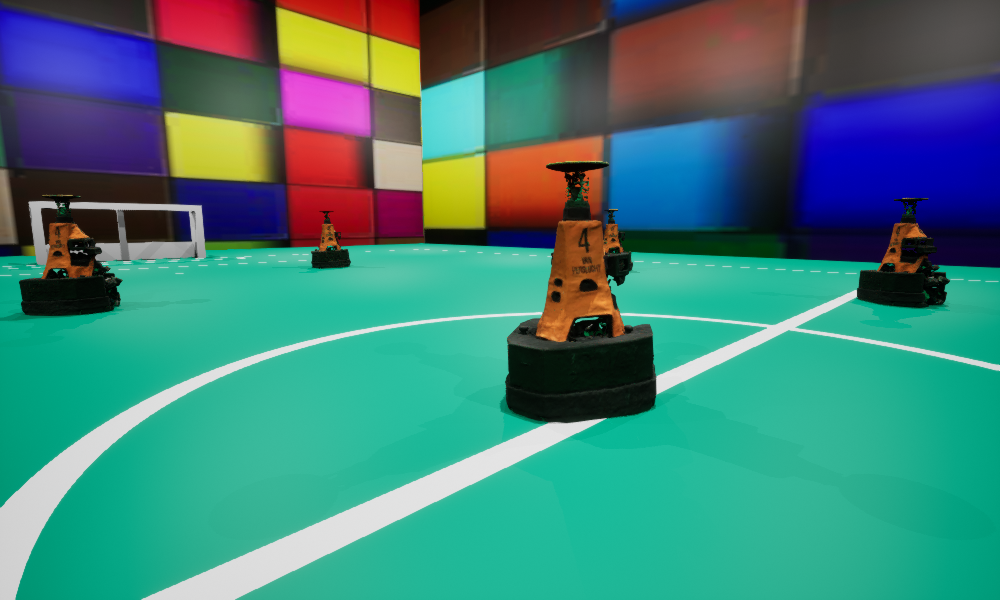0 orange robot TechUnited: (505, 161, 655, 422), (19, 195, 122, 315), (857, 198, 949, 307), (311, 211, 350, 268), (603, 209, 632, 270)
